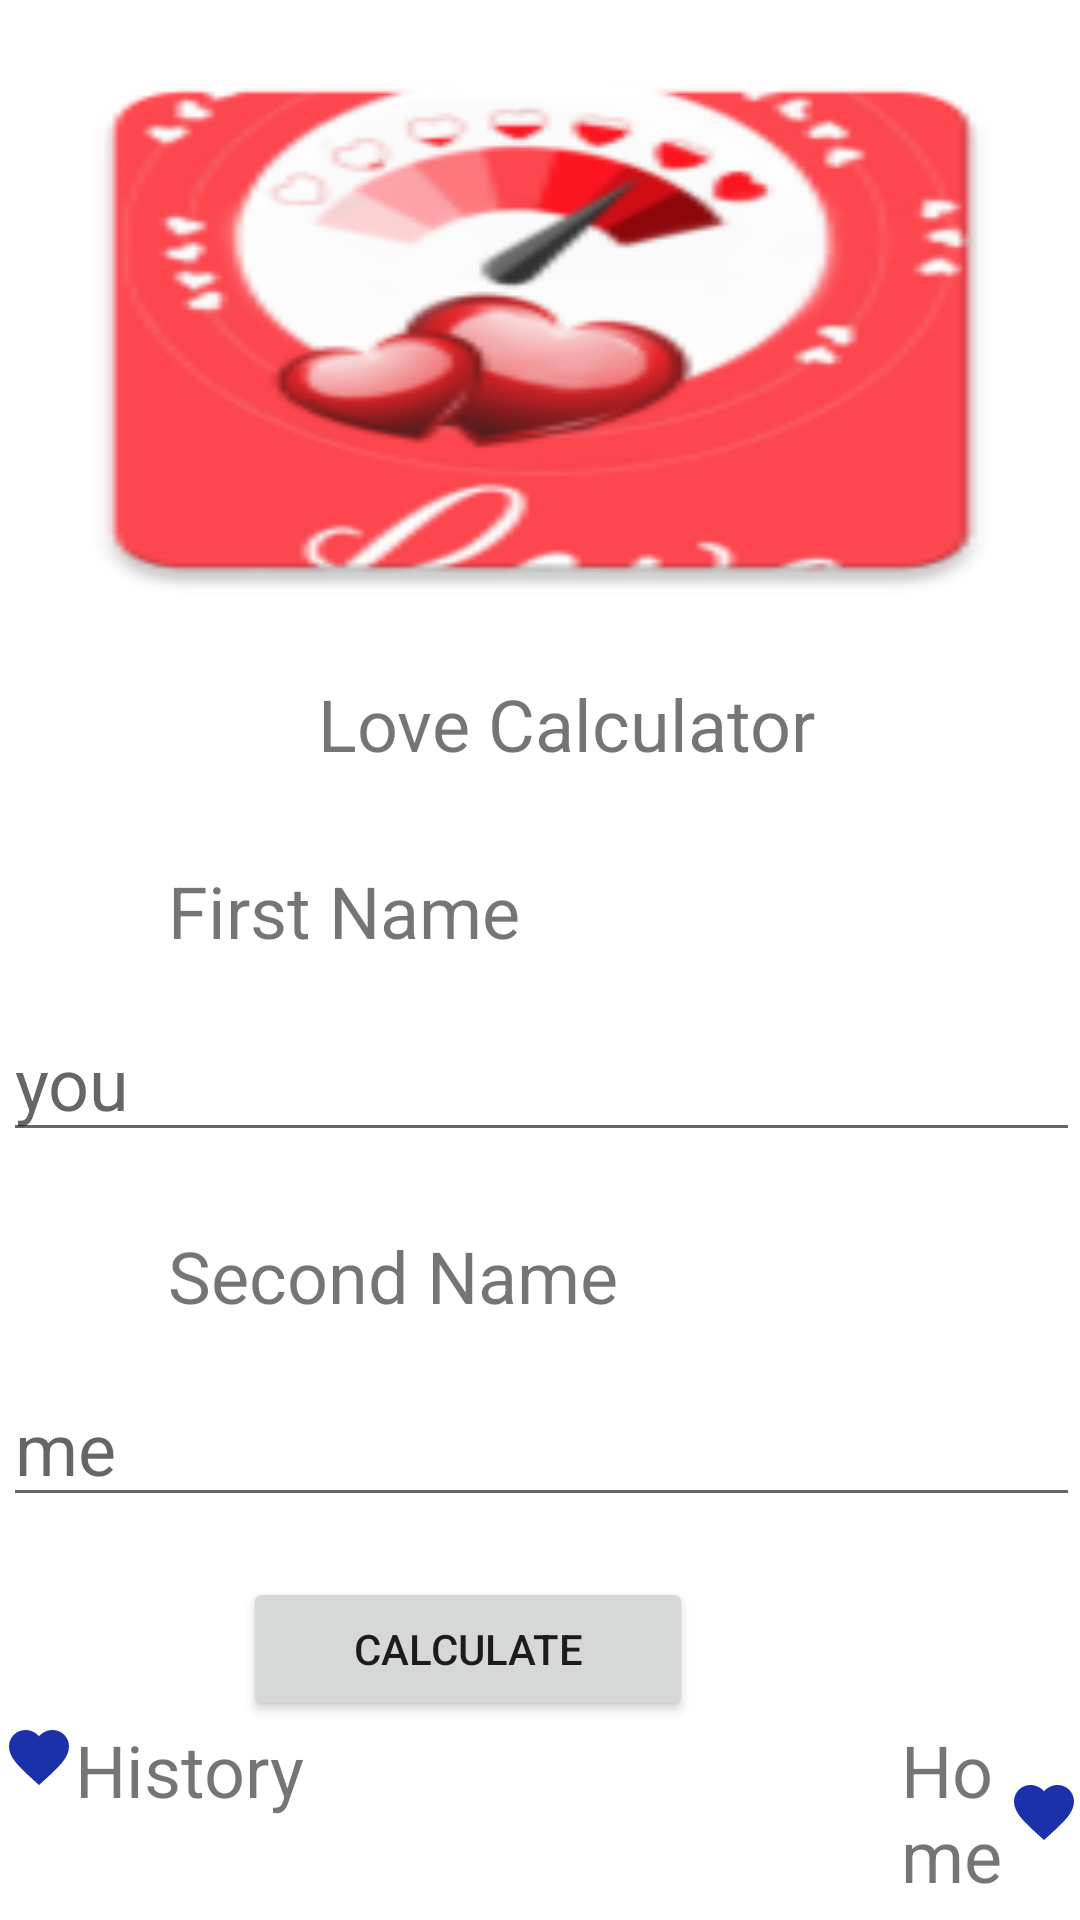

Where to tap for icons on this 1080 × 1920 app screen, as point (x, y):
fovorite: point (39, 1757)
